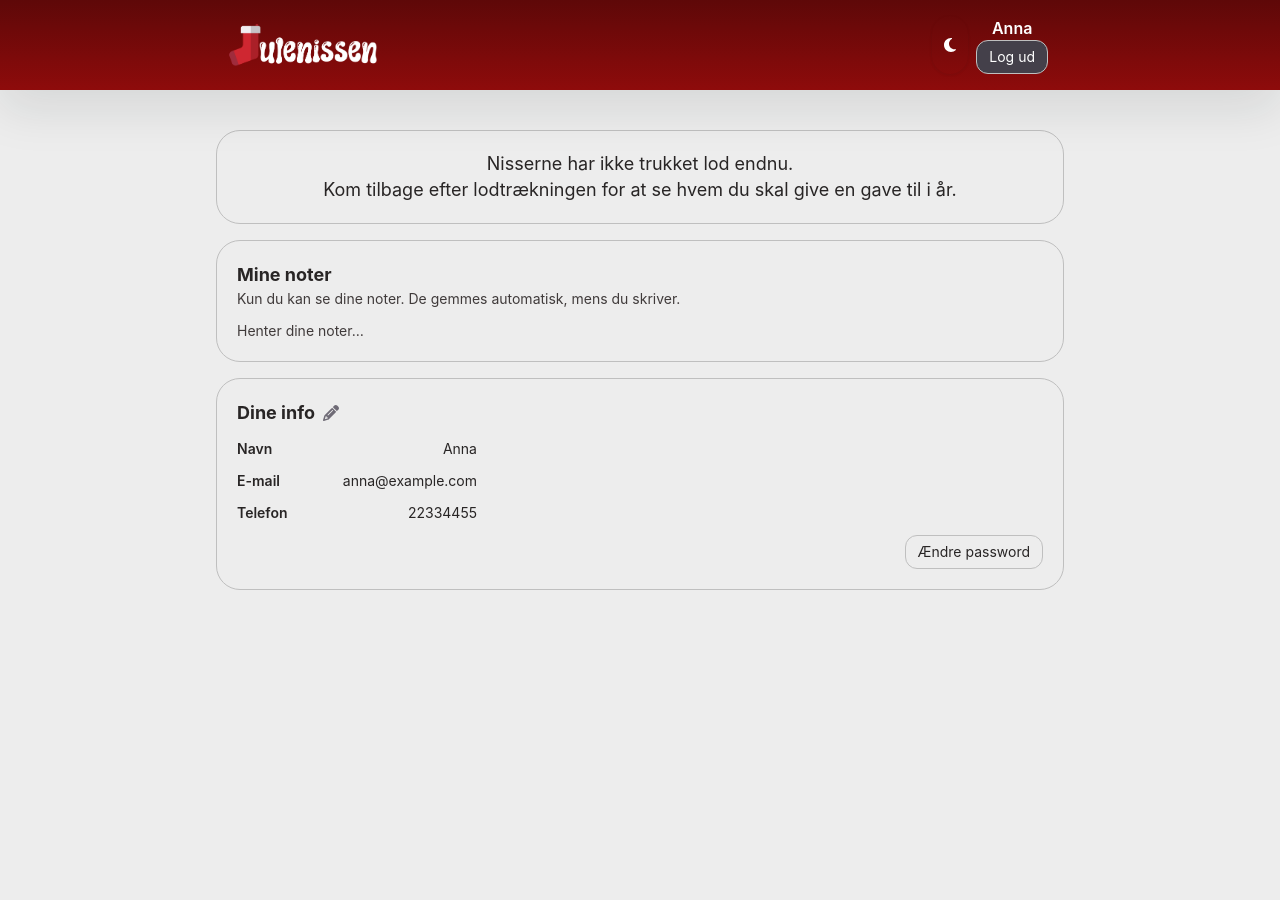
seeing and editing your own details › saves a change and shows it afterwards
The image size is (1280, 900).
Click the button named "Rediger din info" at (331, 413), box [323,405,339,421]
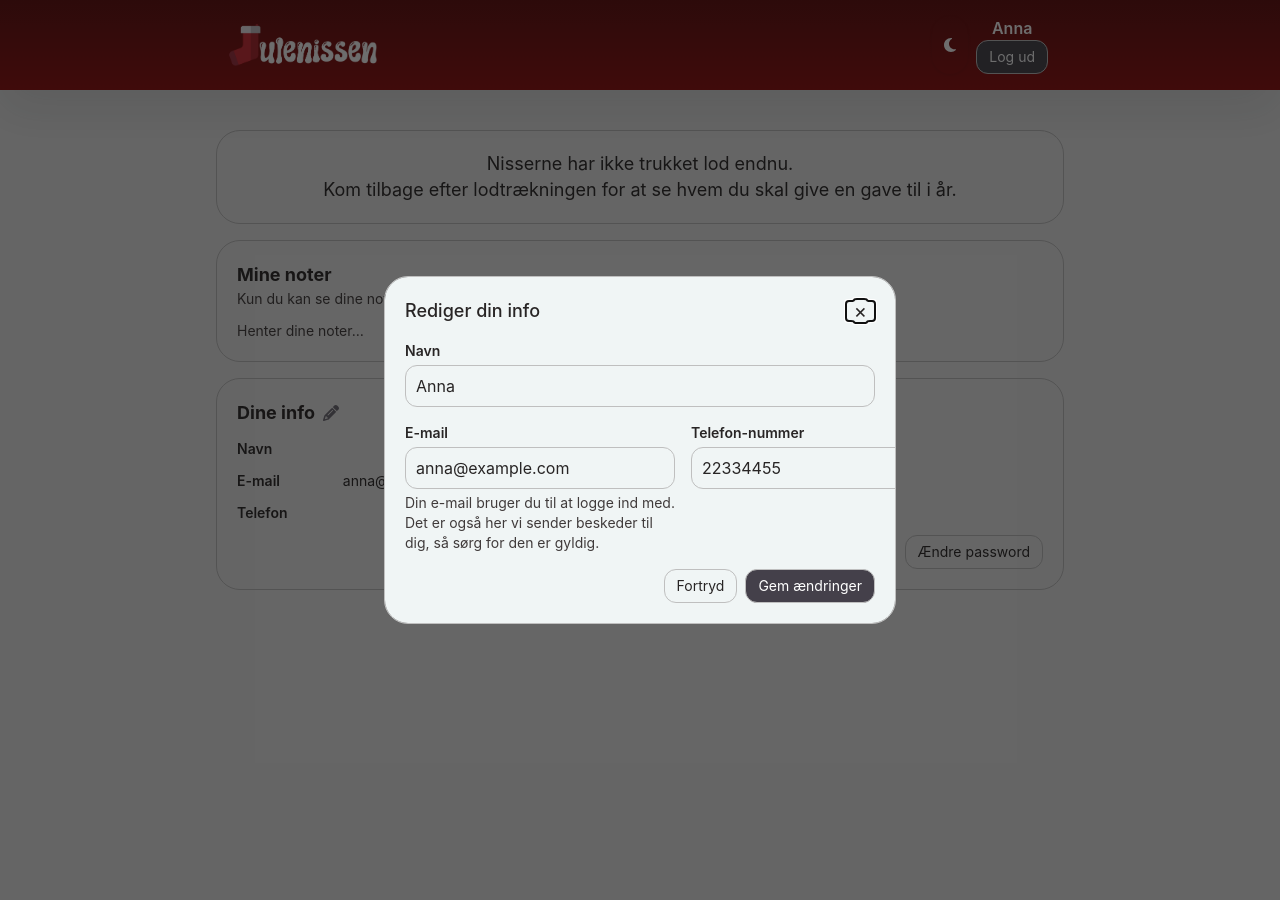
Clear the field labelled "Navn" at (640, 386), box [405,365,875,407]
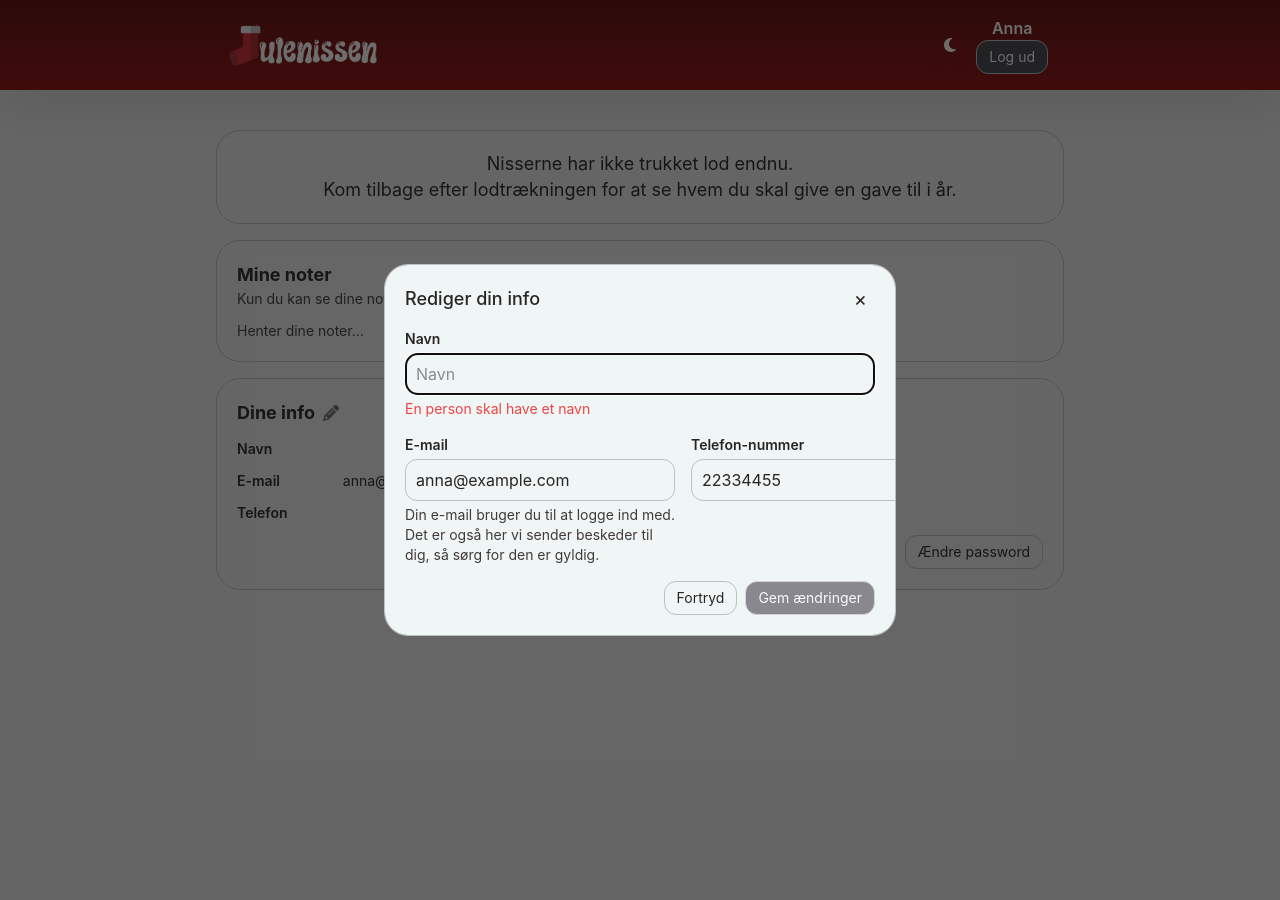
Type "Anna Marie" into the field labelled "Navn" at (640, 374), box [405,353,875,395]
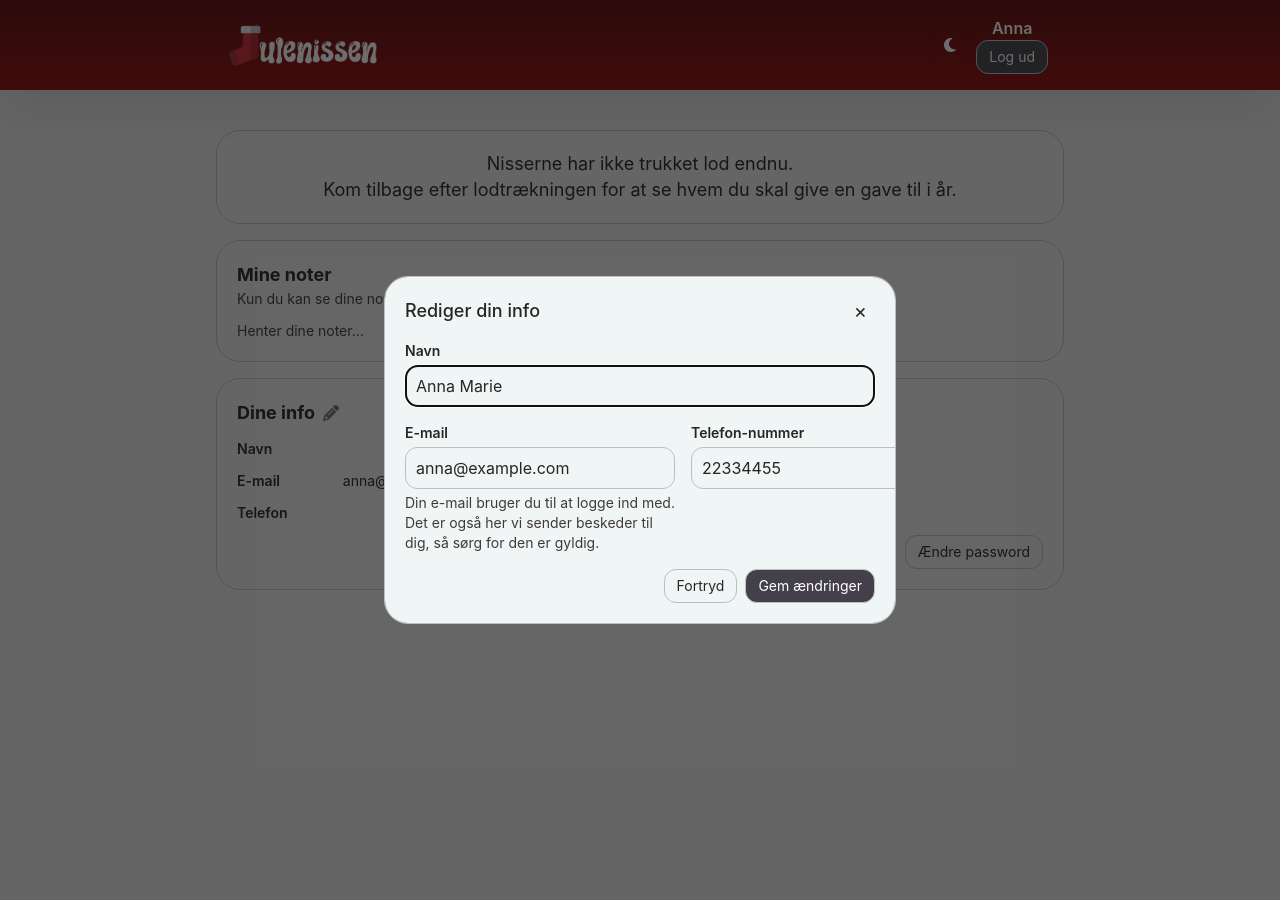
Click the button "Gem ændringer" at (810, 586), box [745,569,875,603]
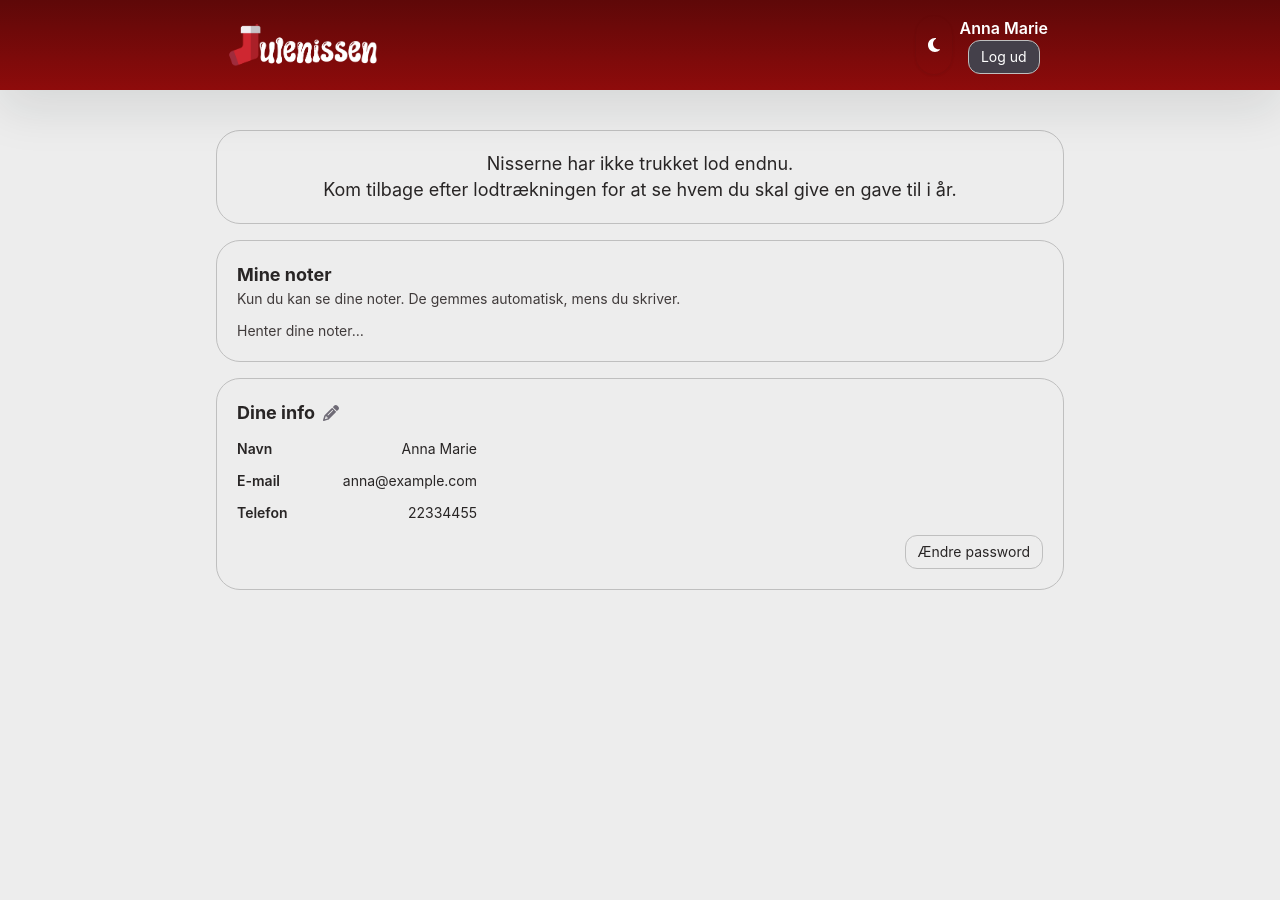
Expected: the text "Anna Marie" next to "Navn" is shown, [402,440,477,457]
Expected: the dialog is gone
